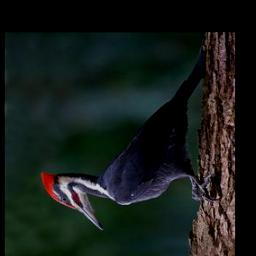Woodpecker: (41, 35, 222, 231)
